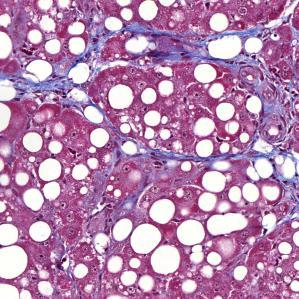fibrosis: (119, 22, 220, 66), (53, 74, 110, 124)
